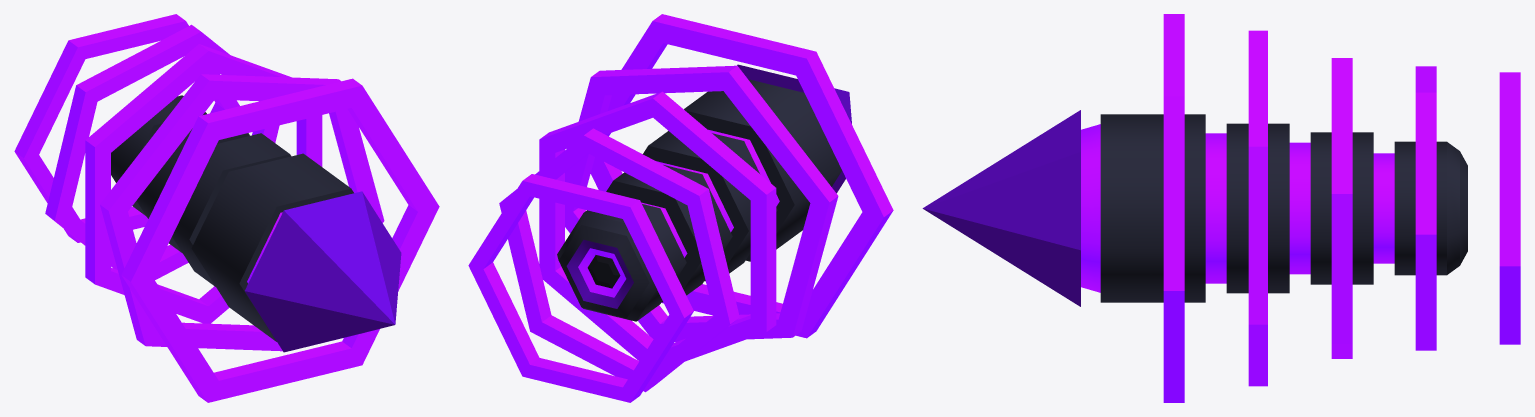
File: Projectile Neon Hunt.fbx
3 views of the same model, side by side, from view 1: azimuth 30°, elevation 25°; view 2: azimuth 150°, elevation 25°; view 3: azimuth 270°, elevation 25° (orthographic). The views are drawn at different scales.
Parts seen in each view (by area): view 1: Projectile Main; view 2: Projectile Main; view 3: Projectile Main.
Part boxes in pixels (x1,y1,x2,y2): Projectile Main: (14, 14, 439, 402); Projectile Main: (468, 14, 893, 402); Projectile Main: (922, 14, 1520, 402).
Size of the model in its own units: 0.4651 by 0.4156 by 0.7125.
